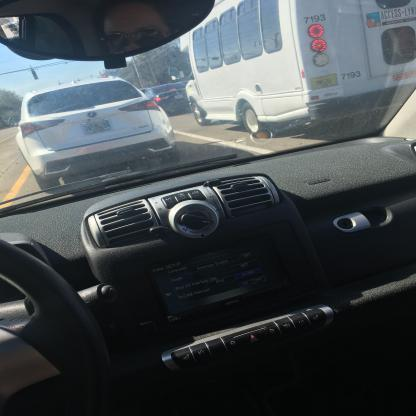License-Plate: (82, 118, 114, 134), (308, 76, 340, 90), (174, 94, 186, 99)
